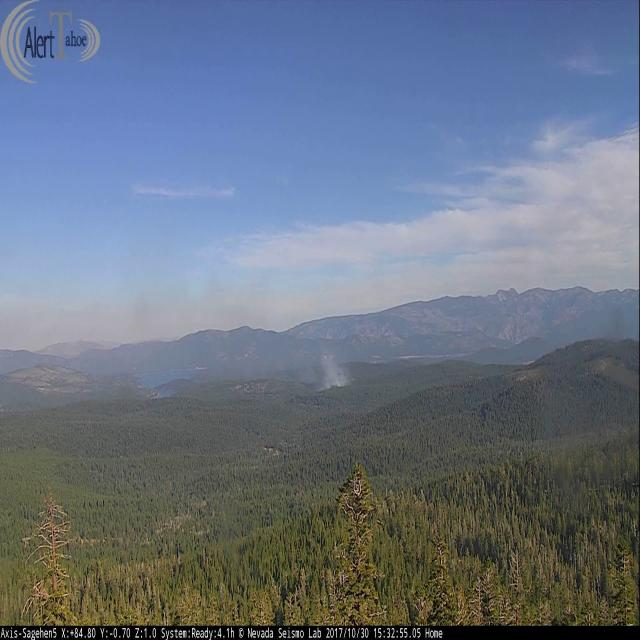smoke: (306, 352, 364, 392)
